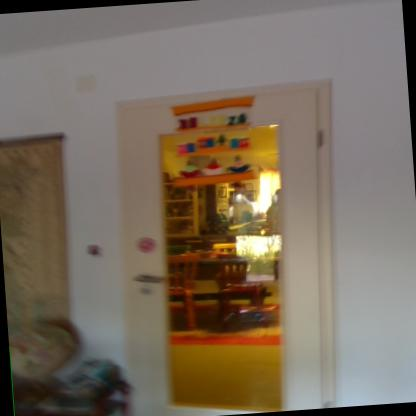closed: (98, 65, 372, 415), (0, 116, 90, 394)
